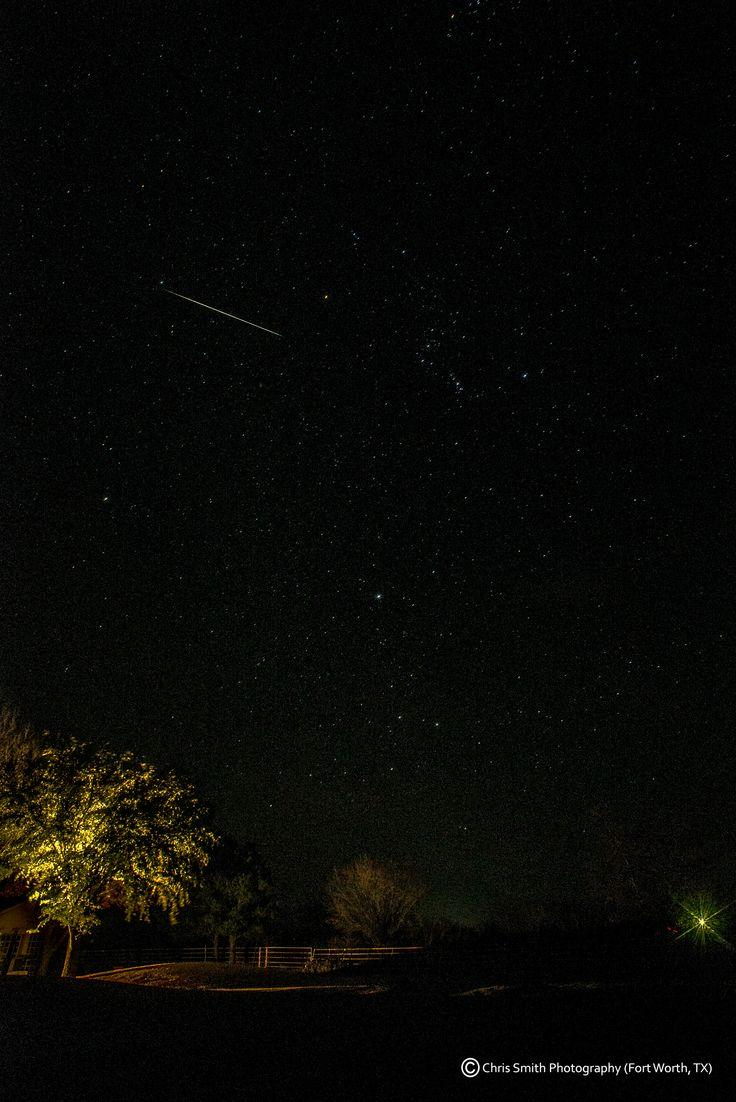meteor: (253, 322, 305, 355)
